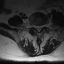CCS_normal: (37, 23, 39, 33)
LFS_normal: (42, 22, 44, 29)
LLS_normal: (39, 24, 42, 31)
RFS_normal: (32, 23, 35, 29)
RLS_normal: (35, 23, 37, 32)
